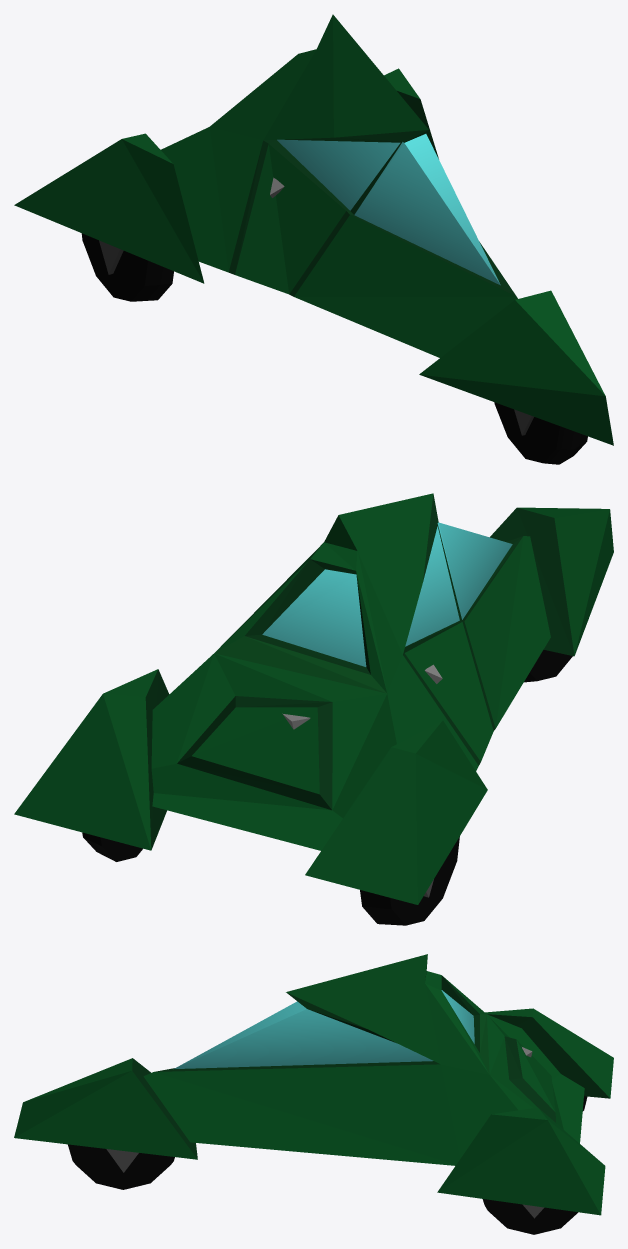
The model's file is c_car_triangle_ac.fbx.
The picture shows the model from 3 angles, top to bottom: view 1: azimuth 30°, elevation 25°; view 2: azimuth 150°, elevation 25°; view 3: azimuth 270°, elevation 25°; orthographic projection. The views are drawn at different scales.
Visible parts, largest first — view 1: c_car_triangle_ac; view 2: c_car_triangle_ac; view 3: c_car_triangle_ac.
Boxes of the visible parts, x1=… form: c_car_triangle_ac: x1=14, y1=14, x2=613, y2=464; c_car_triangle_ac: x1=14, y1=493, x2=613, y2=925; c_car_triangle_ac: x1=14, y1=954, x2=613, y2=1234.
Bounding box in the file's own units: 3.1 × 2.3 × 5.4.
